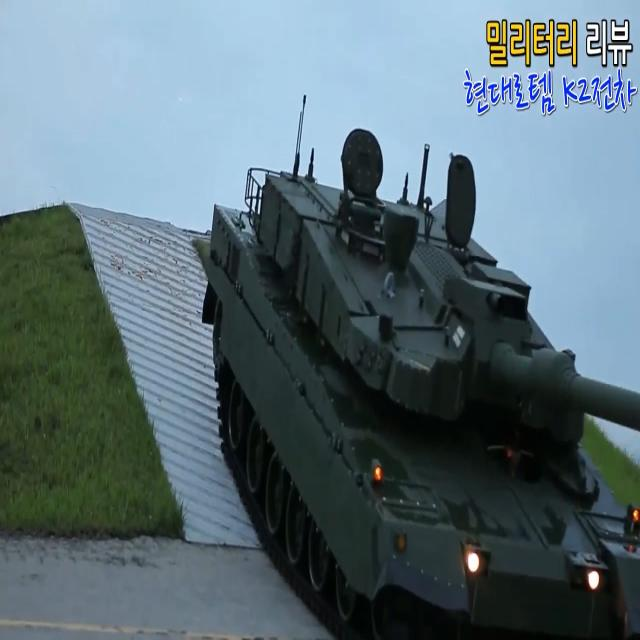korea tank: (198, 90, 640, 640)
